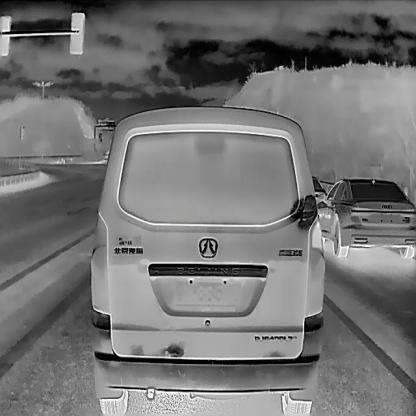car: (89, 104, 324, 415), (311, 176, 415, 258)
